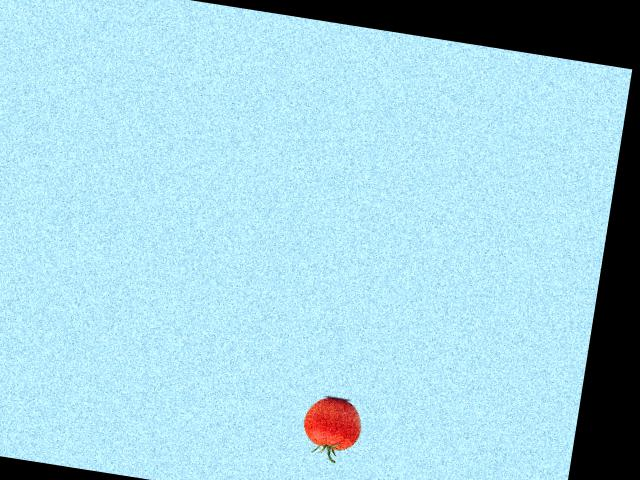tomato: (300, 394, 364, 452)
